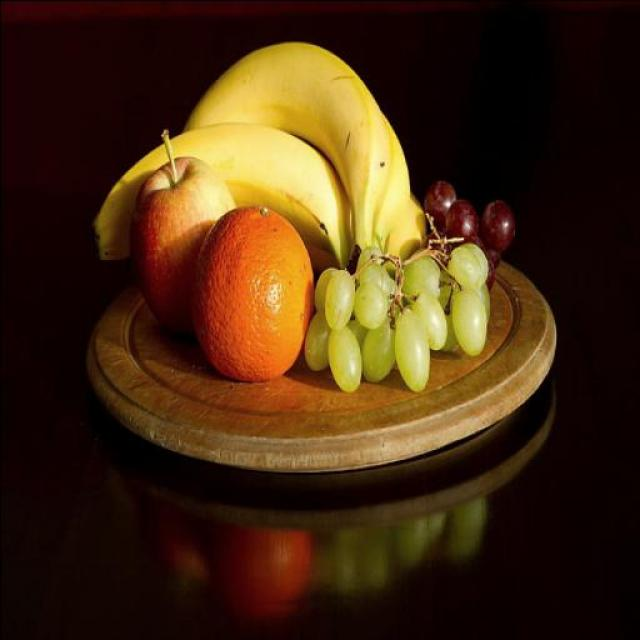1: (93, 122, 352, 269)
Apple: (130, 128, 236, 336)
Banana: (178, 44, 409, 258)
Orange: (190, 204, 315, 380)
